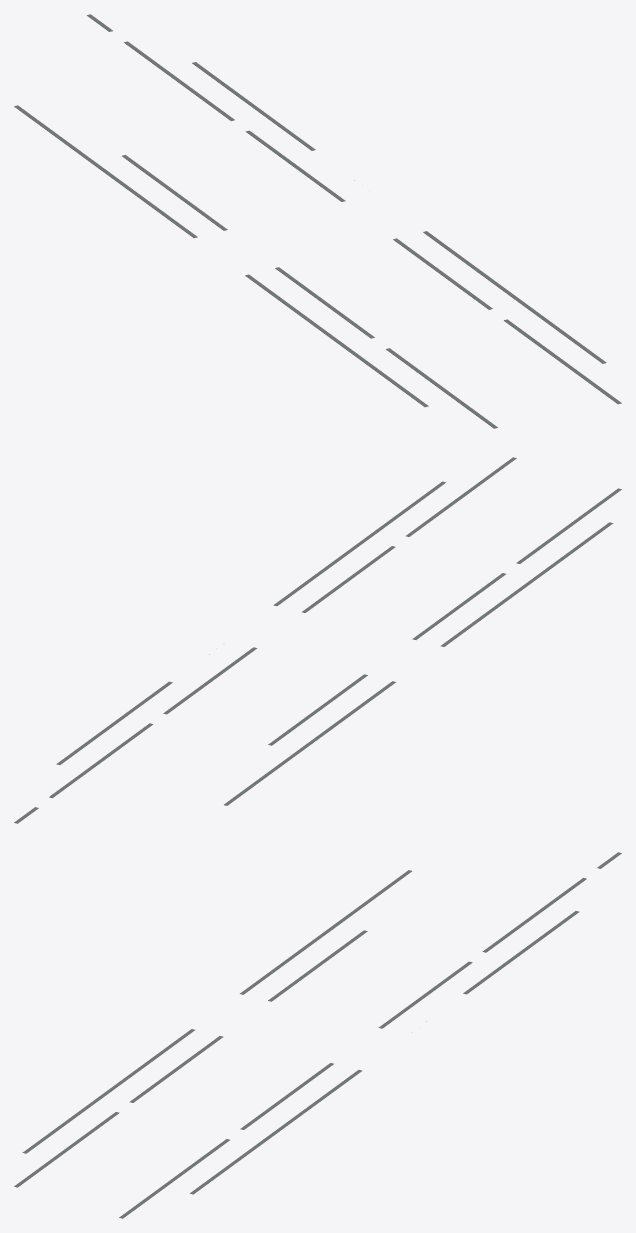
Rendered from AST-STF-G3-058.glb.
3 renders of one model, top to bottom at view 1: azimuth 30°, elevation 25°; view 2: azimuth 150°, elevation 25°; view 3: azimuth 330°, elevation 25°, orthographic. The views are drawn at different scales.
Parts seen in each view (by area): view 1: floor_staff_floor_D03_remaining_streets; view 2: floor_staff_floor_D03_remaining_streets; view 3: floor_staff_floor_D03_remaining_streets.
Boxes of the visible parts, left/top/right/bottom form: floor_staff_floor_D03_remaining_streets: left=14, top=14, right=621, bottom=428; floor_staff_floor_D03_remaining_streets: left=14, top=457, right=621, bottom=823; floor_staff_floor_D03_remaining_streets: left=14, top=852, right=621, bottom=1218.
Size of the model in its own units: 176 by 0.24 by 890.
Materials: 1 (1 with a texture image).
